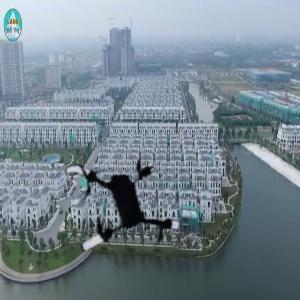drone: (51, 143, 182, 274)
